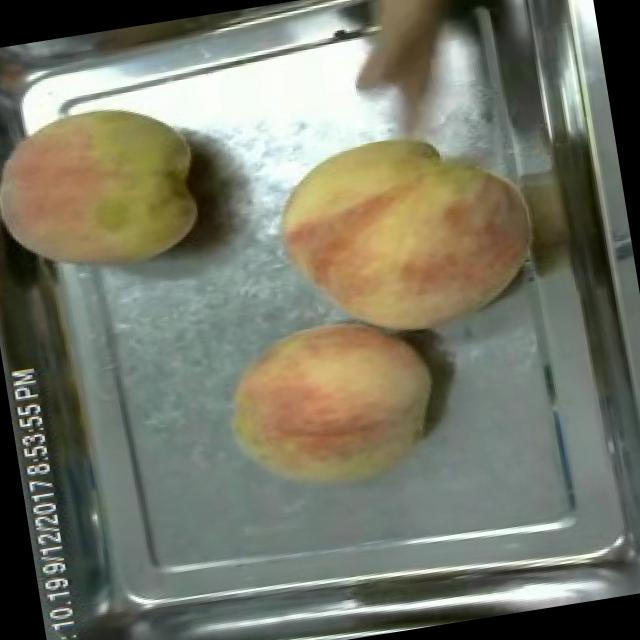Fruit: (257, 105, 551, 361), (209, 297, 456, 513), (0, 79, 218, 293)
